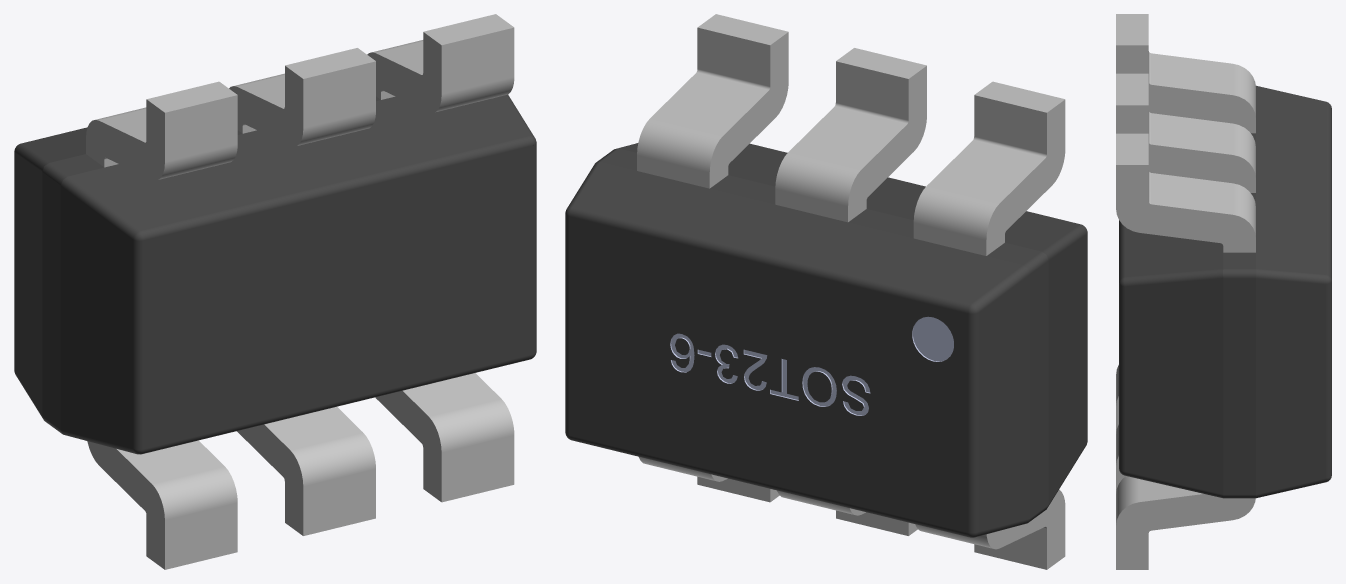
File: SOT23-6.glb
3 renders of one model, left to right at view 1: azimuth 30°, elevation 25°; view 2: azimuth 150°, elevation 25°; view 3: azimuth 270°, elevation 25°, orthographic. The views are drawn at different scales.
Parts seen in each view (by area): view 1: 3F71381A-4E5E-445B-B831-D57075F70C7E; view 2: 3F71381A-4E5E-445B-B831-D57075F70C7E; view 3: 3F71381A-4E5E-445B-B831-D57075F70C7E.
Part boxes in pixels (left/top/right/bottom): 3F71381A-4E5E-445B-B831-D57075F70C7E: left=14, top=14, right=536, bottom=569; 3F71381A-4E5E-445B-B831-D57075F70C7E: left=565, top=14, right=1087, bottom=569; 3F71381A-4E5E-445B-B831-D57075F70C7E: left=1116, top=14, right=1331, bottom=569.
Bounding box in the file's own units: 0.003 × 0.003 × 0.00145.
